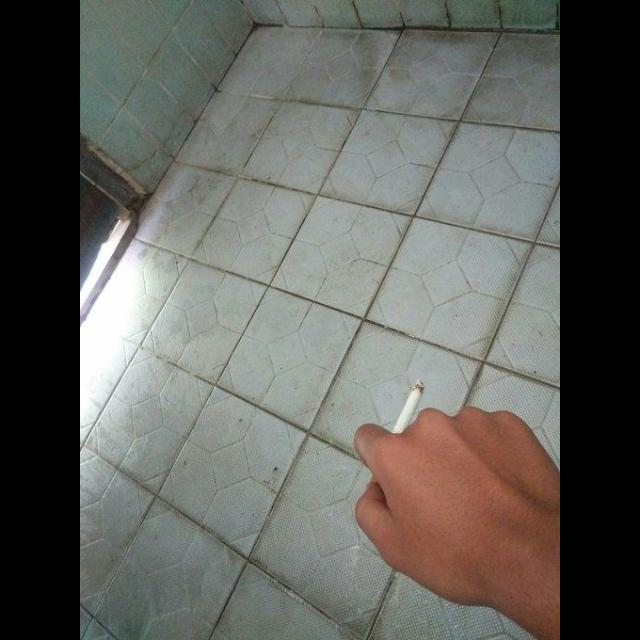rokok: (384, 381, 426, 434)
